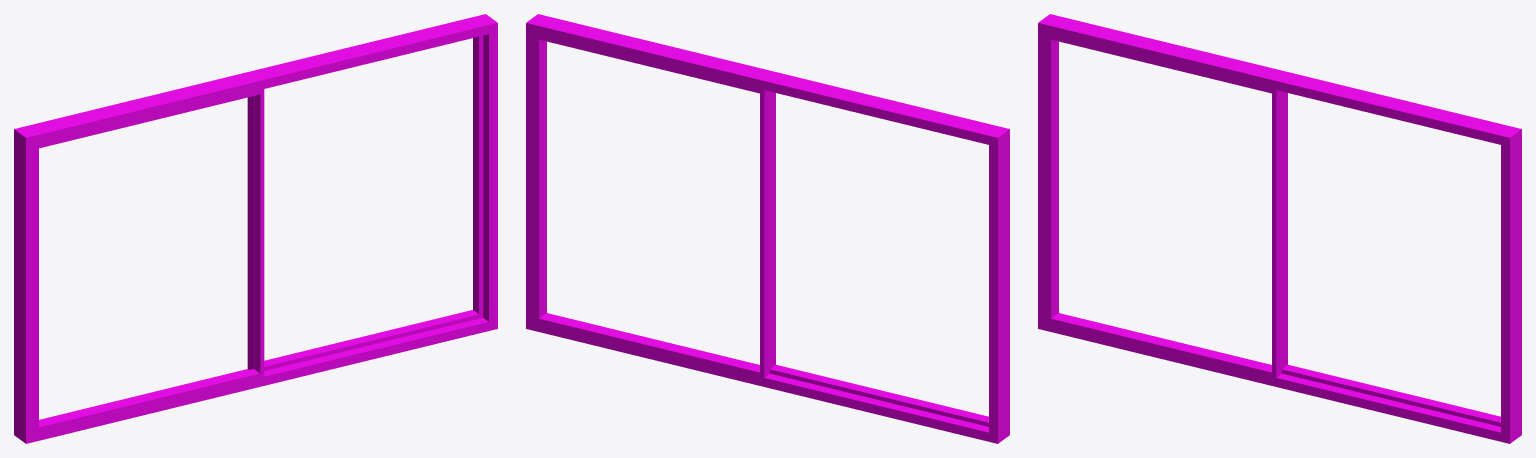
File: door.fbx
3 views of the same model, side by side, from view 1: azimuth 30°, elevation 25°; view 2: azimuth 150°, elevation 25°; view 3: azimuth 330°, elevation 25° (orthographic).
Visible parts, largest first — view 1: pasted__pCube25, pasted__pCube27 (×2); view 2: pasted__pCube25, pasted__pCube27 (×2); view 3: pasted__pCube25, pasted__pCube27 (×2).
Part boxes in pixels (bbox=[...]): pasted__pCube25: bbox=[14, 14, 497, 443]; pasted__pCube27 (×2): bbox=[35, 35, 483, 432]; pasted__pCube25: bbox=[526, 14, 1009, 443]; pasted__pCube27 (×2): bbox=[535, 34, 988, 426]; pasted__pCube25: bbox=[1038, 14, 1521, 443]; pasted__pCube27 (×2): bbox=[1047, 34, 1500, 426].
Size of the model in its own units: 10.12 by 6.27 by 0.4487.
